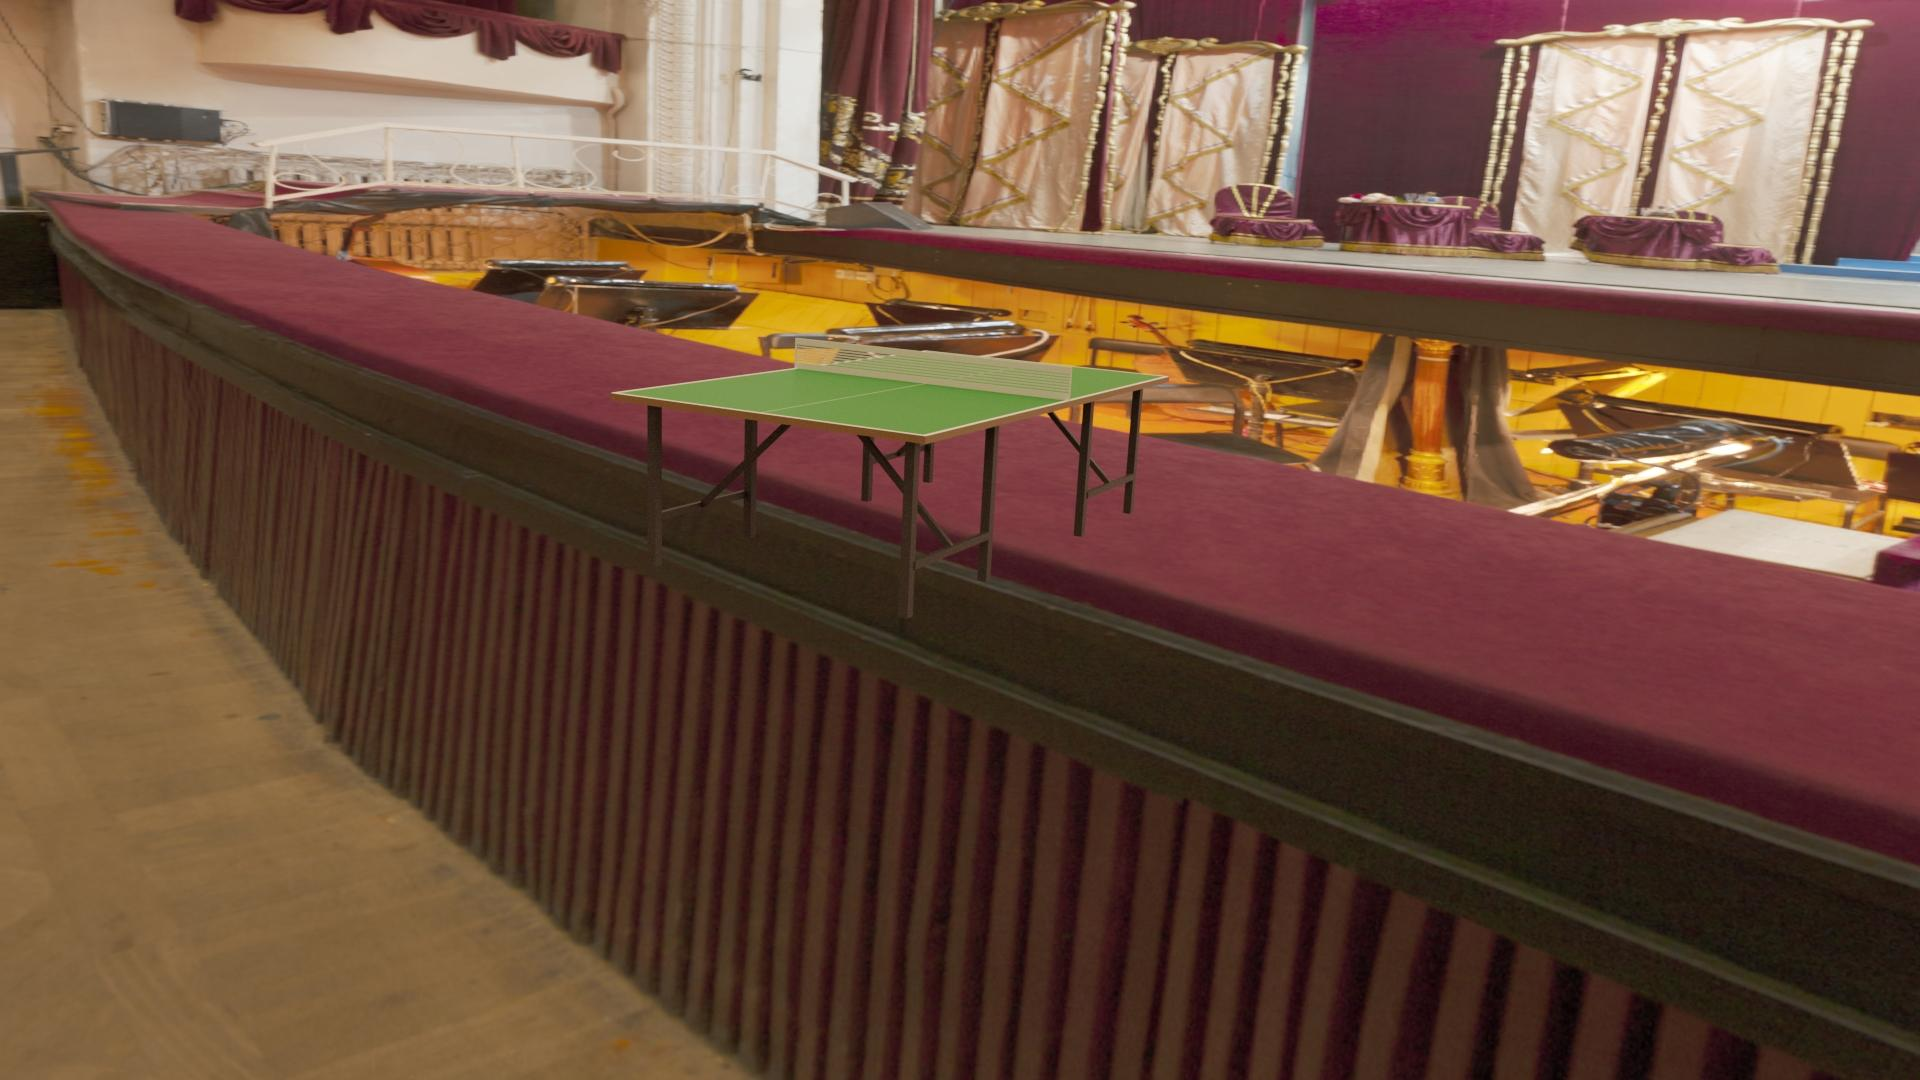table: (617, 351, 1164, 435)
